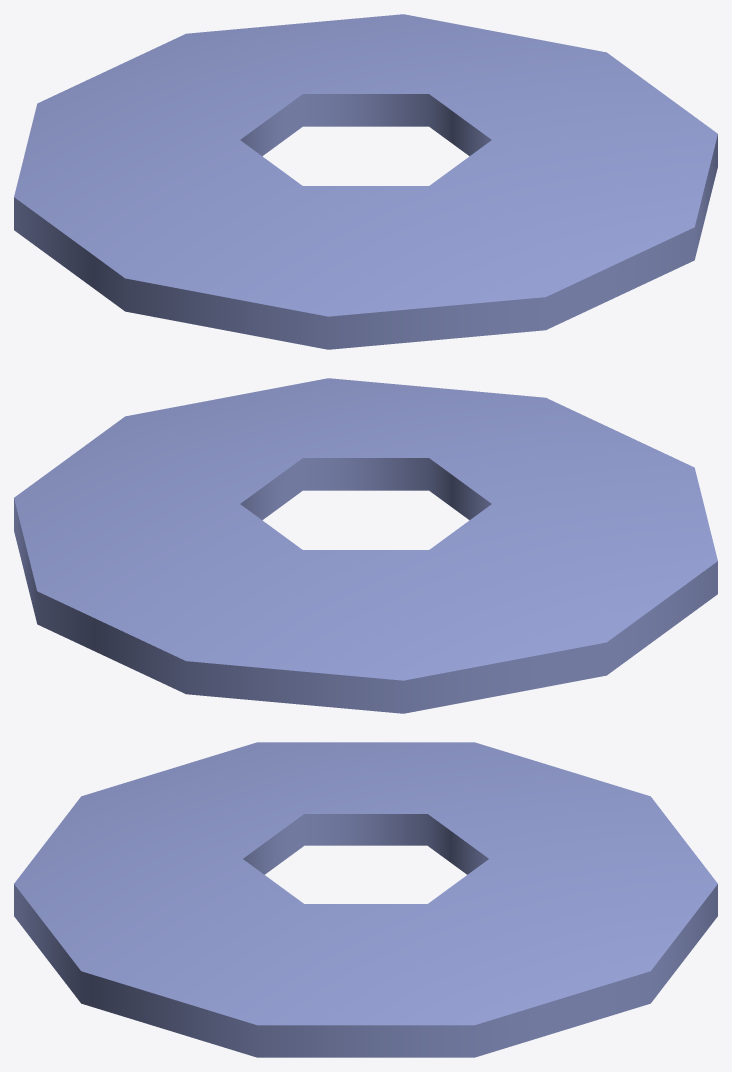
The model's file is Copie de Rondelle_Cuir^Horloge Comtoise Verge - Sonnerie.obj.
3 views of the same model, one above another, from view 1: azimuth 30°, elevation 25°; view 2: azimuth 150°, elevation 25°; view 3: azimuth 270°, elevation 25° (orthographic). The views are drawn at different scales.
Parts seen in each view (by area): view 1: Face_4, Face_2, Face_3; view 2: Face_4, Face_2, Face_3; view 3: Face_4, Face_2, Face_3.
Part boxes in pixels (bbox=[...]): Face_4: bbox=[14, 14, 717, 316]; Face_2: bbox=[14, 134, 717, 349]; Face_3: bbox=[240, 94, 491, 156]; Face_4: bbox=[14, 378, 717, 680]; Face_2: bbox=[14, 498, 717, 713]; Face_3: bbox=[240, 458, 491, 520]; Face_4: bbox=[14, 742, 717, 1025]; Face_2: bbox=[14, 884, 717, 1057]; Face_3: bbox=[243, 814, 488, 874].
Size of the model in its own units: 0.019 by 0.0018 by 0.02.
